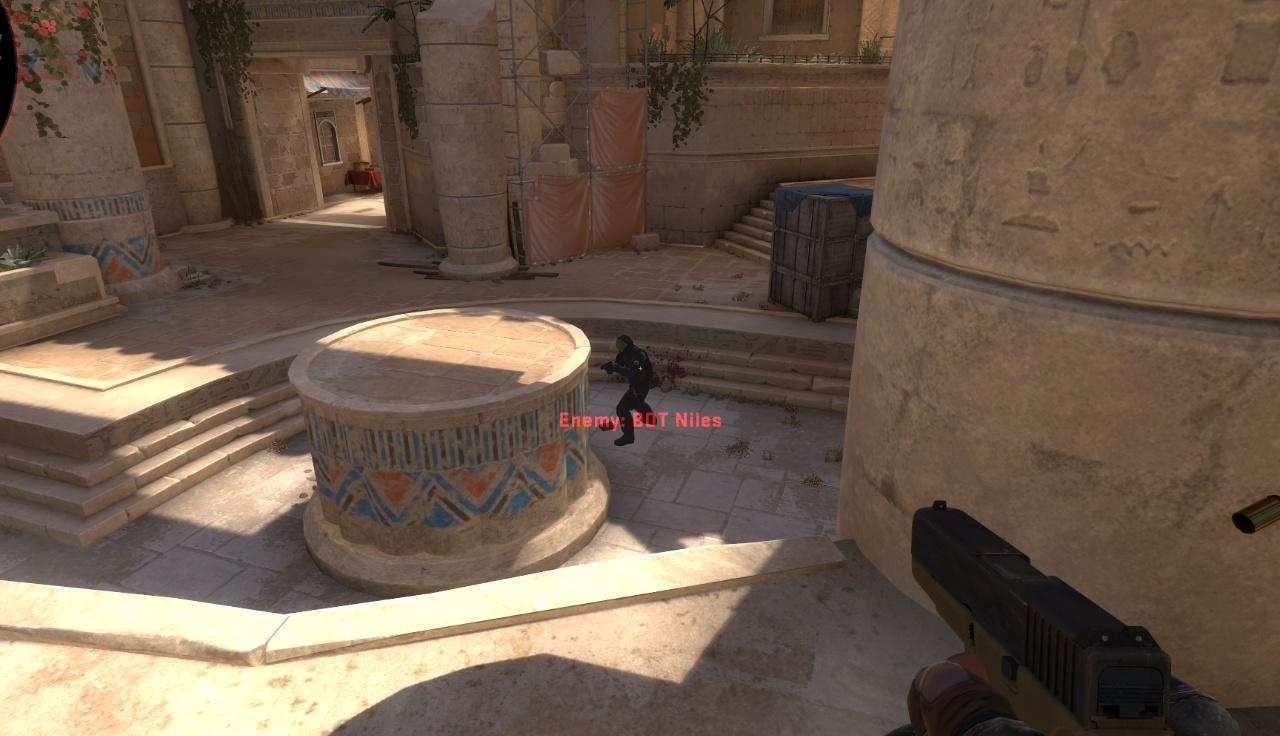ct: (612, 335, 656, 427)
cthead: (616, 335, 632, 354)
pistol: (900, 490, 1183, 736)
